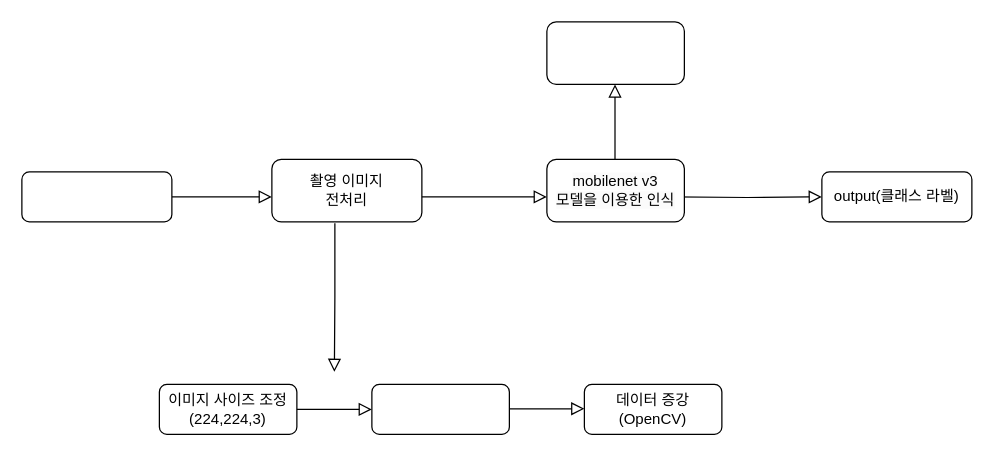
This 994x458 diagram has some shape labels left out. Each missing label, with the centre of its shape:
"input(촬영 이미지)" goes at (96,196).
"optimizer: adam loss: cross-entropy" goes at (615,52).
"데이터 정규화 (0~255사이 값을 0~1로 만듬)" goes at (440,408).
